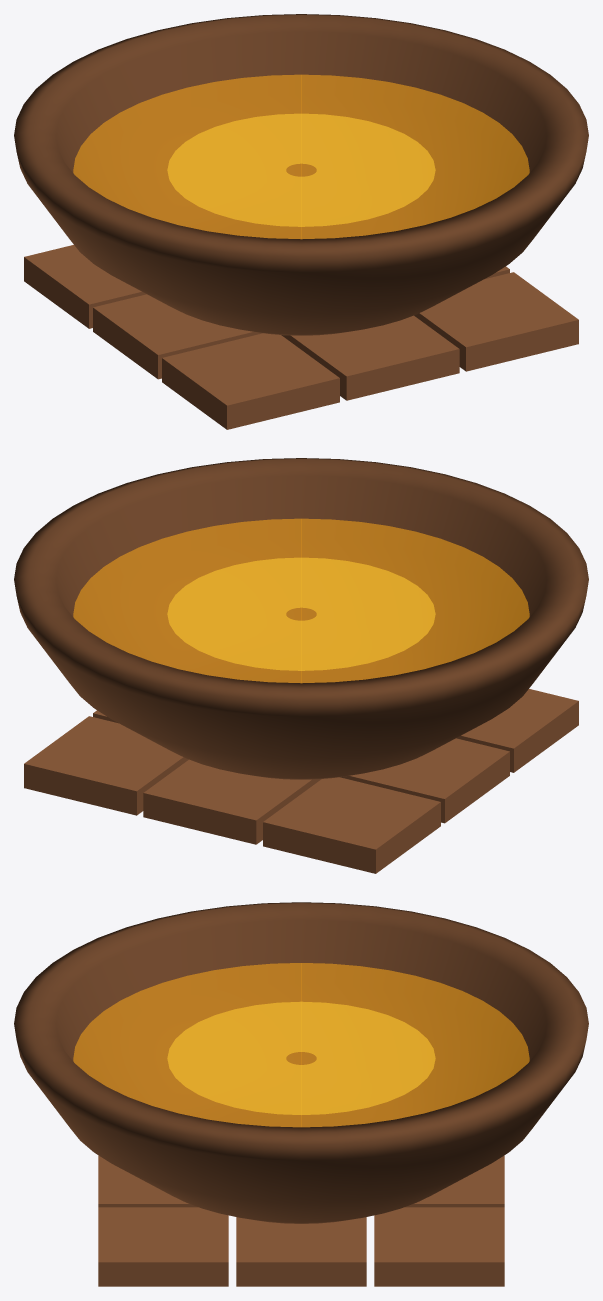
The model's file is honey_bowl_artisan.glb.
The picture shows the model from 3 angles, top to bottom: view 1: azimuth 30°, elevation 25°; view 2: azimuth 150°, elevation 25°; view 3: azimuth 270°, elevation 25°; orthographic projection.
Parts seen in each view (by area): view 1: ArtisanWoodenHoneyBowl, BowlHoneyPool, WoodCoaster, BowlImpactRipple; view 2: ArtisanWoodenHoneyBowl, BowlHoneyPool, WoodCoaster, BowlImpactRipple; view 3: ArtisanWoodenHoneyBowl, BowlHoneyPool, WoodCoaster, BowlImpactRipple.
Part boxes in pixels (<box>): ArtisanWoodenHoneyBowl: <box>14,14,588,335</box>; BowlHoneyPool: <box>73,74,529,239</box>; WoodCoaster: <box>24,245,578,429</box>; BowlImpactRipple: <box>167,113,435,226</box>; ArtisanWoodenHoneyBowl: <box>14,458,588,779</box>; BowlHoneyPool: <box>73,518,529,683</box>; WoodCoaster: <box>24,689,578,873</box>; BowlImpactRipple: <box>167,557,435,670</box>; ArtisanWoodenHoneyBowl: <box>14,902,588,1223</box>; BowlHoneyPool: <box>73,963,529,1127</box>; WoodCoaster: <box>98,1155,504,1286</box>; BowlImpactRipple: <box>167,1001,435,1114</box>.
Bounding box in the file's own units: 3 × 1.05 × 3.
